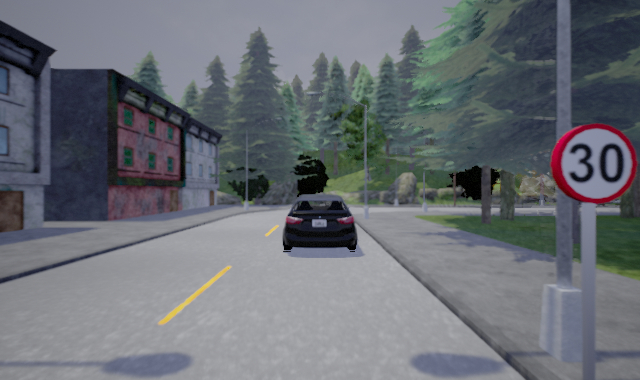traffic_sign: (550, 122, 639, 204)
vehicle: (281, 193, 357, 253)
